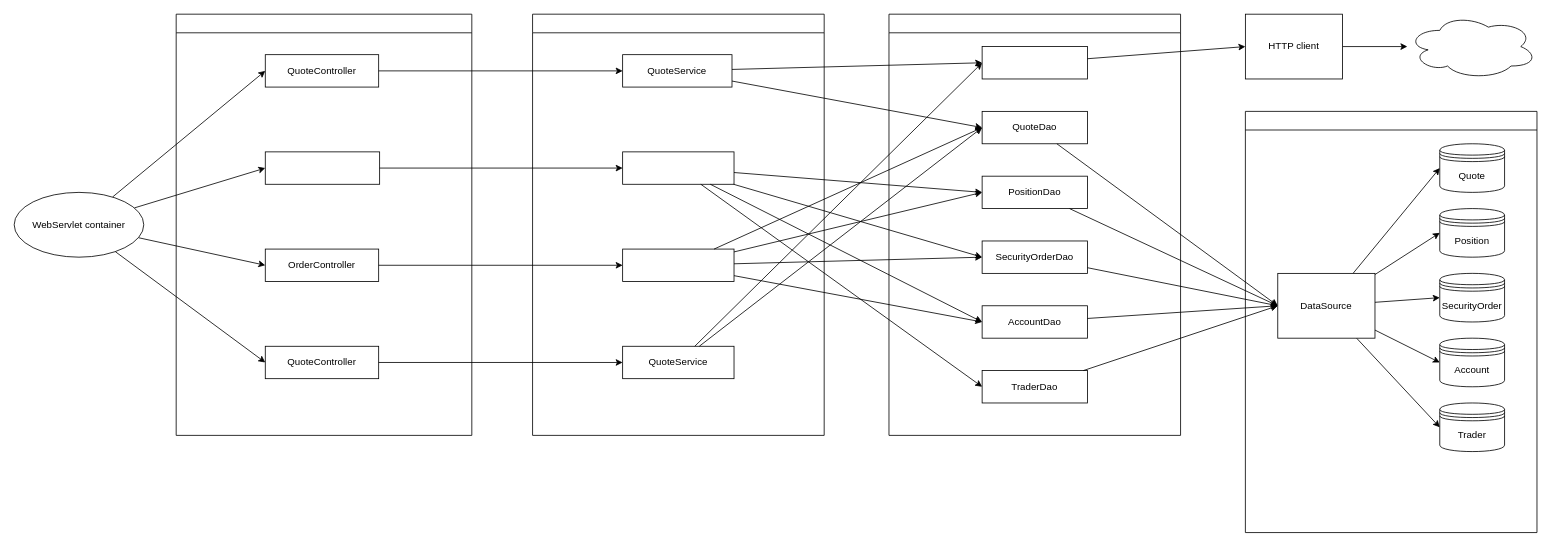
This 1551x547 diagram has some shape labels left out. The shapes that lost their labels are listed below. From the top down, each one's box as (x1, y1, x2, y2) in pixels, then its label:
(981, 46, 1087, 79): MarketDataDao
(1407, 13, 1537, 79): IEX Cloud
(264, 151, 380, 184): TraderAccountController
(622, 151, 734, 184): TraderAccountService
(175, 13, 472, 435): Controller layer
(532, 13, 824, 435): Service layer
(888, 13, 1181, 435): Data access layer
(622, 248, 734, 281): OrderService
(1245, 111, 1537, 533): Vertical Container
